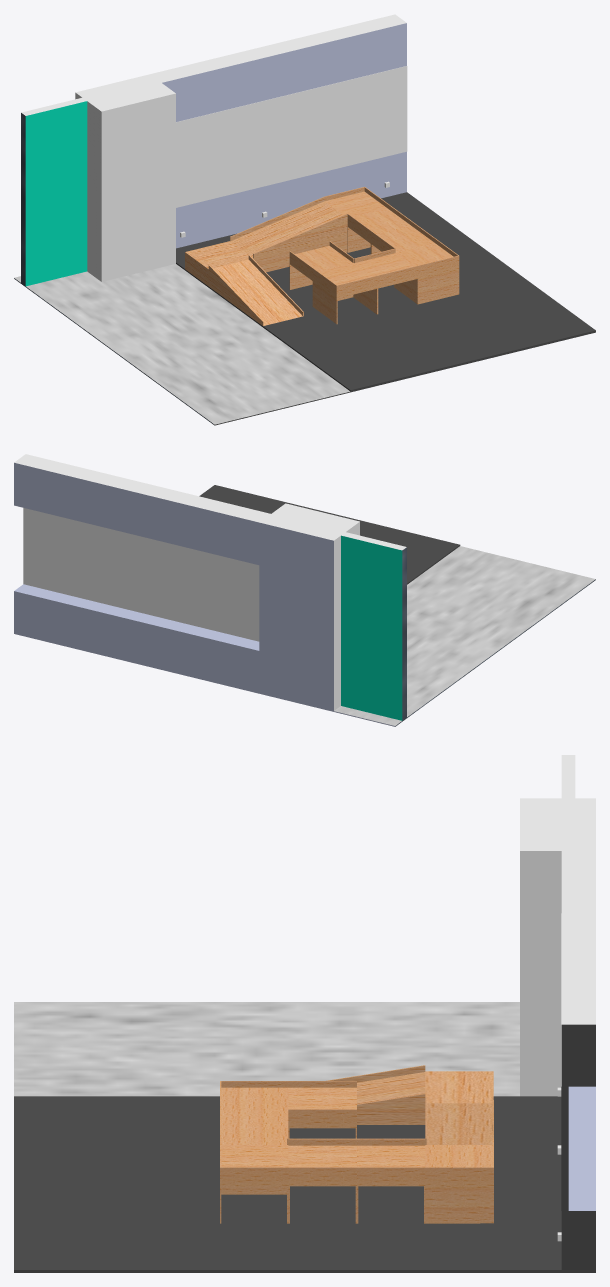
The picture shows the model from 3 angles, top to bottom: view 1: azimuth 30°, elevation 25°; view 2: azimuth 150°, elevation 25°; view 3: azimuth 270°, elevation 25°; orthographic projection. The views are drawn at different scales.
Visible parts, largest first — view 1: _3DGeom-42, _3DGeom-47, _3DGeom-1, _3DGeom-41, _3DGeom-44, _3DGeom-46, _3DGeom-45, _3DGeom-43; view 2: _3DGeom-46, _3DGeom-44, _3DGeom-47, _3DGeom-45, _3DGeom-41, _3DGeom-42, _3DGeom-43; view 3: _3DGeom-42, _3DGeom-47, _3DGeom-1, _3DGeom-41, _3DGeom-46.
Boxes of the visible parts, bbox=[...] form: _3DGeom-42: bbox=[176, 192, 595, 425]; _3DGeom-47: bbox=[14, 264, 349, 424]; _3DGeom-1: bbox=[185, 187, 459, 325]; _3DGeom-41: bbox=[21, 14, 406, 281]; _3DGeom-44: bbox=[176, 66, 407, 207]; _3DGeom-46: bbox=[162, 23, 406, 248]; _3DGeom-45: bbox=[25, 101, 87, 286]; _3DGeom-43: bbox=[14, 113, 214, 425]; _3DGeom-46: bbox=[14, 462, 395, 726]; _3DGeom-44: bbox=[23, 508, 259, 641]; _3DGeom-47: bbox=[334, 546, 595, 725]; _3DGeom-45: bbox=[341, 535, 402, 720]; _3DGeom-41: bbox=[14, 454, 406, 710]; _3DGeom-42: bbox=[199, 485, 460, 584]; _3DGeom-43: bbox=[395, 547, 595, 726]; _3DGeom-42: bbox=[14, 1024, 595, 1272]; _3DGeom-47: bbox=[14, 1002, 519, 1096]; _3DGeom-1: bbox=[220, 1065, 493, 1223]; _3DGeom-41: bbox=[520, 755, 595, 1096]; _3DGeom-46: bbox=[568, 1086, 595, 1210].
Bounding box in the file's own units: 9.32 × 8.5 × 4.
9 materials, 3 textured.
